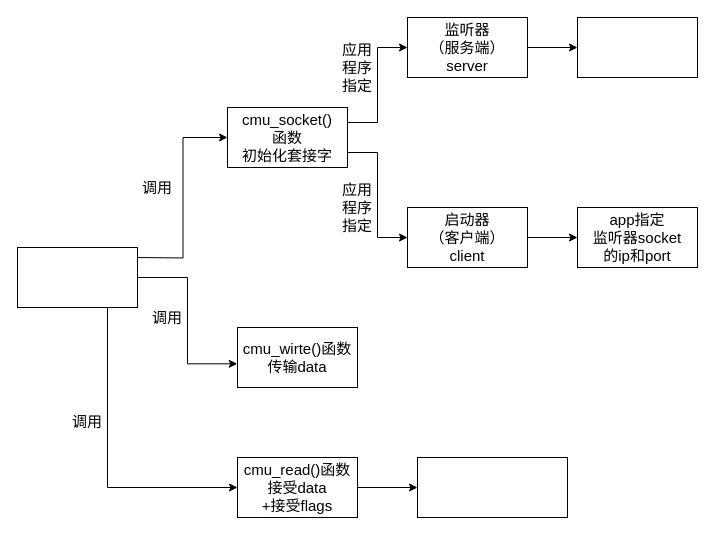
Image size: 715x535. Some labels were removed from this diagram. The shapes that lost their labels are listed below. From the top down, each one's centre as x and y in pixels, then its label:
At point 637,47: "app指定 监听端口".
At point 77,277: "应用程序".
At point 492,487: "flags定义无data时， 是否阻塞blocking (不阻塞=返回no data)".
